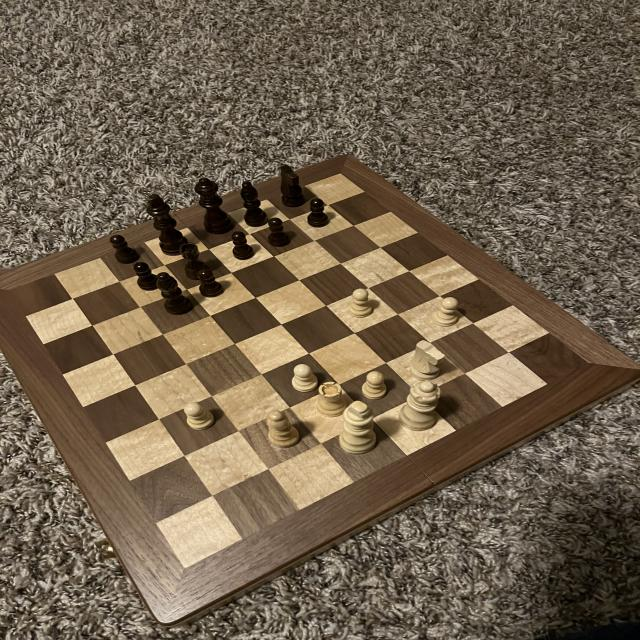bishop: (153, 270, 198, 317), (237, 180, 270, 232)
black-bishop: (142, 191, 190, 254)
black-king: (275, 162, 311, 210)
black-knight: (108, 232, 144, 267), (303, 194, 335, 232), (262, 214, 294, 249), (195, 266, 225, 299), (133, 261, 162, 293), (229, 228, 257, 261)
black-pawn: (190, 172, 240, 240)
black-queen: (176, 242, 211, 280)
black-rook: (266, 408, 302, 452)
white-bishop: (338, 400, 378, 454)
white-king: (405, 338, 447, 381)
white-knight: (431, 294, 462, 329), (346, 286, 376, 322), (182, 400, 215, 431), (359, 368, 389, 402), (291, 363, 320, 396)
white-pawn: (398, 377, 444, 434)
white-queen: (314, 378, 351, 418)
